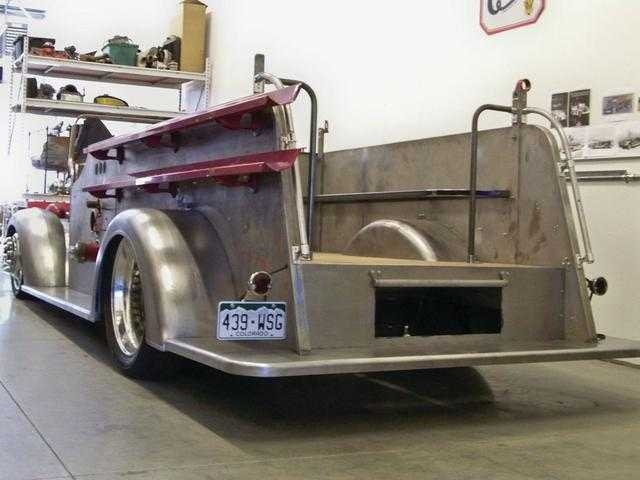Fire Truck: (0, 76, 605, 414)
